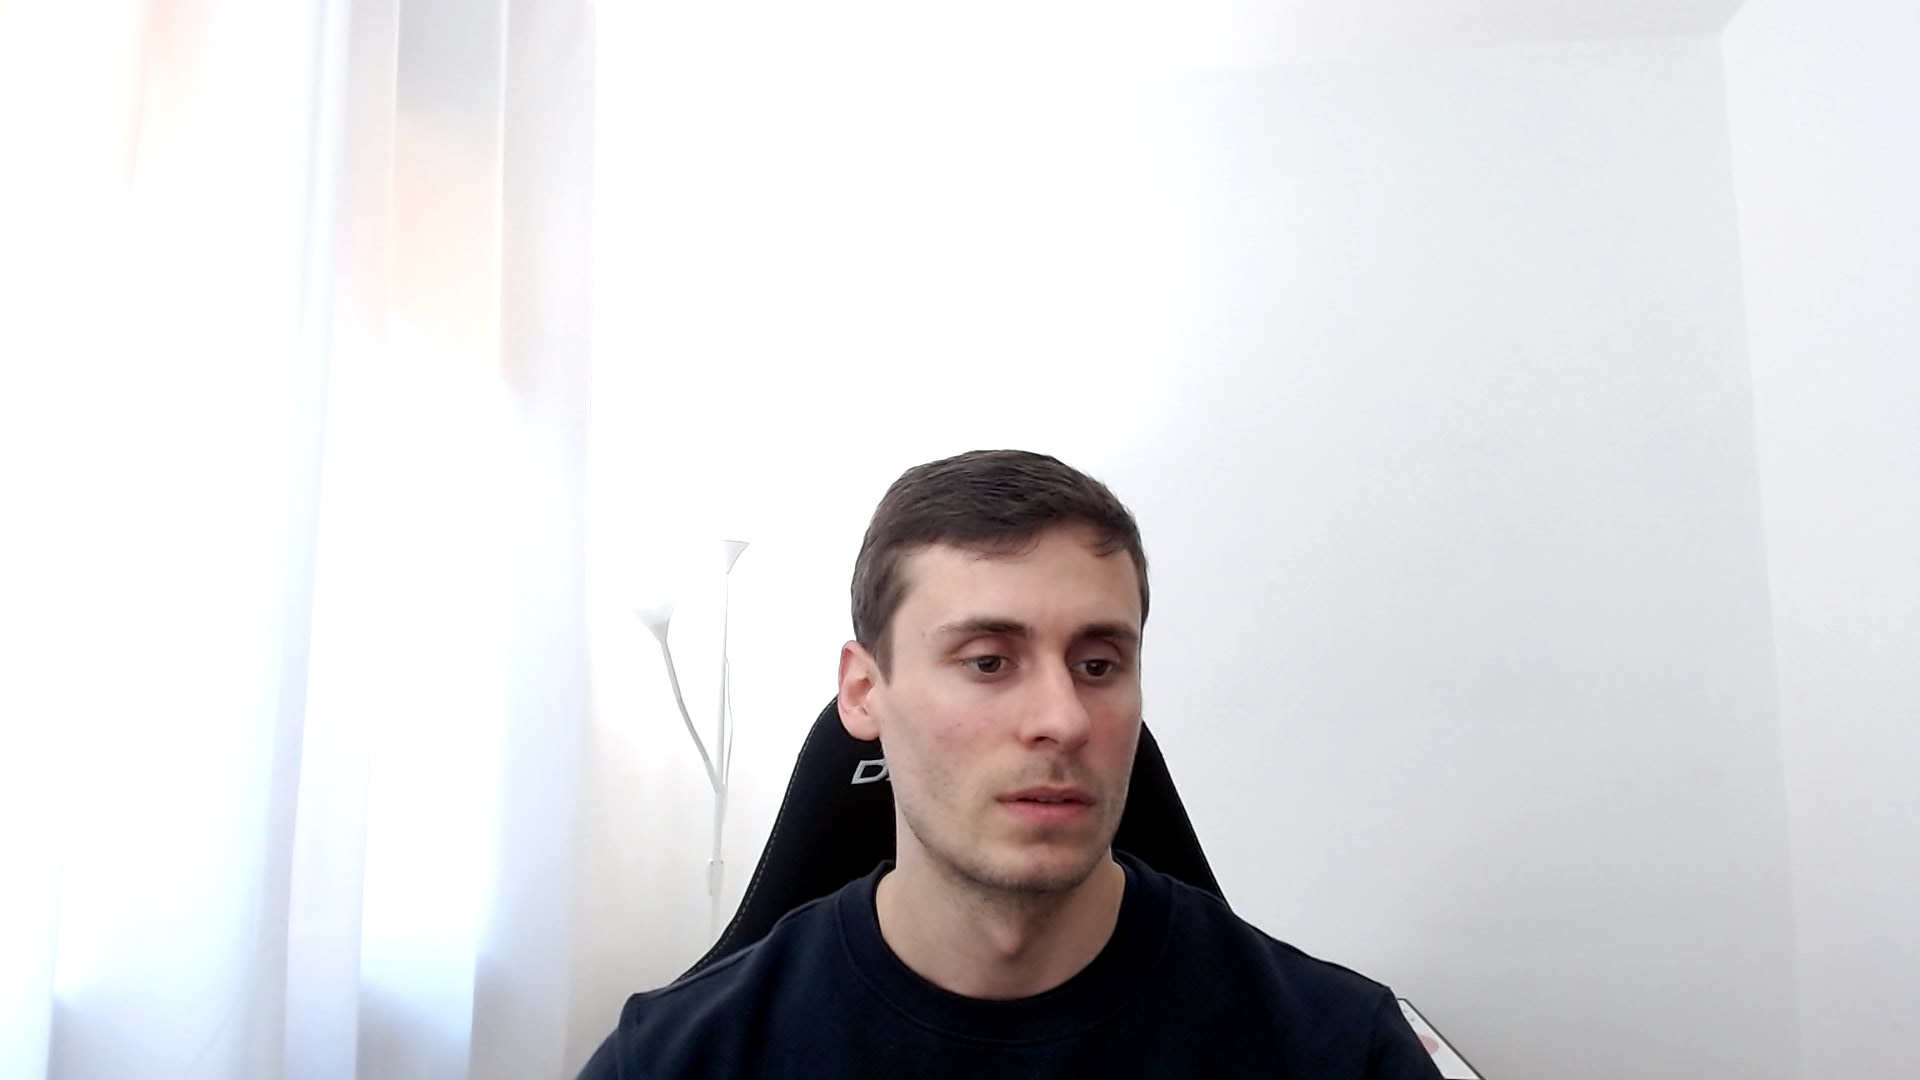No-mask: (838, 450, 1151, 891)
